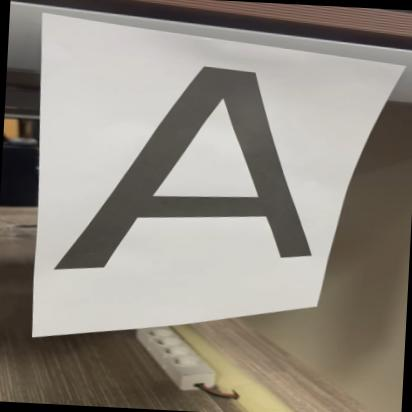seat: (44, 34, 331, 279)
